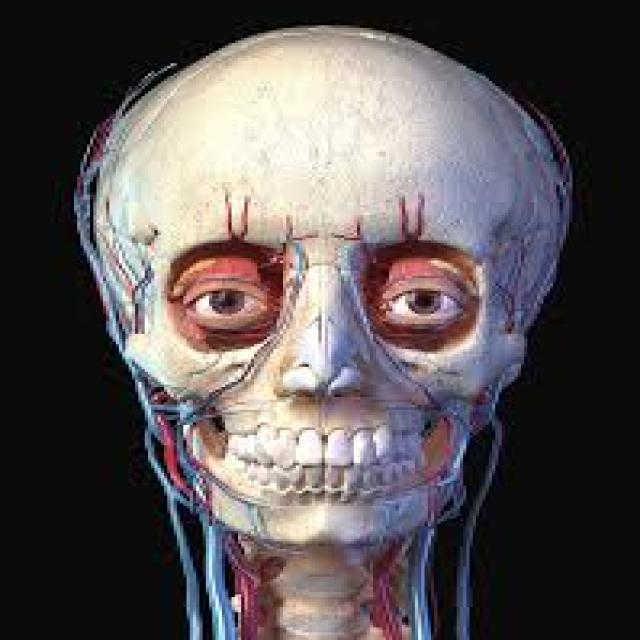skull: (80, 0, 579, 549)
